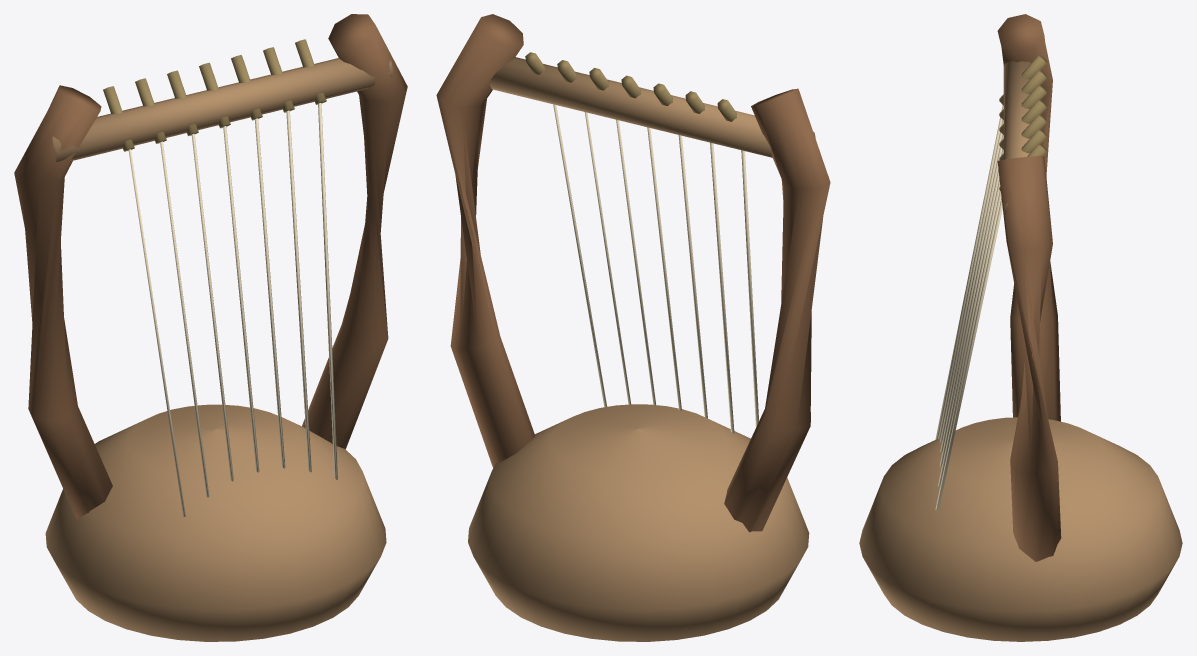
File: seven-string-lyre.glb
3 views of the same model, side by side, from view 1: azimuth 30°, elevation 25°; view 2: azimuth 150°, elevation 25°; view 3: azimuth 270°, elevation 25° (orthographic). The views are drawn at different scales.
Parts seen in each view (by area): view 1: seven-string-lyre__woodlight, seven-string-lyre__wood, seven-string-lyre__linen, seven-string-lyre__bronze; view 2: seven-string-lyre__woodlight, seven-string-lyre__wood, seven-string-lyre__linen, seven-string-lyre__bronze; view 3: seven-string-lyre__woodlight, seven-string-lyre__wood, seven-string-lyre__linen, seven-string-lyre__bronze.
Boxes of the visible parts, x1,y1,x2,y2 form: seven-string-lyre__woodlight: [45, 58, 393, 641]; seven-string-lyre__wood: [14, 14, 407, 519]; seven-string-lyre__linen: [128, 103, 337, 517]; seven-string-lyre__bronze: [103, 39, 326, 151]; seven-string-lyre__woodlight: [468, 57, 815, 641]; seven-string-lyre__wood: [436, 14, 830, 532]; seven-string-lyre__linen: [553, 104, 758, 433]; seven-string-lyre__bronze: [525, 52, 736, 121]; seven-string-lyre__woodlight: [859, 61, 1182, 641]; seven-string-lyre__wood: [997, 14, 1061, 561]; seven-string-lyre__linen: [935, 105, 1003, 510]; seven-string-lyre__bronze: [999, 55, 1046, 190].
Size of the model in its own units: 0.9665 by 1.3 by 0.74.
